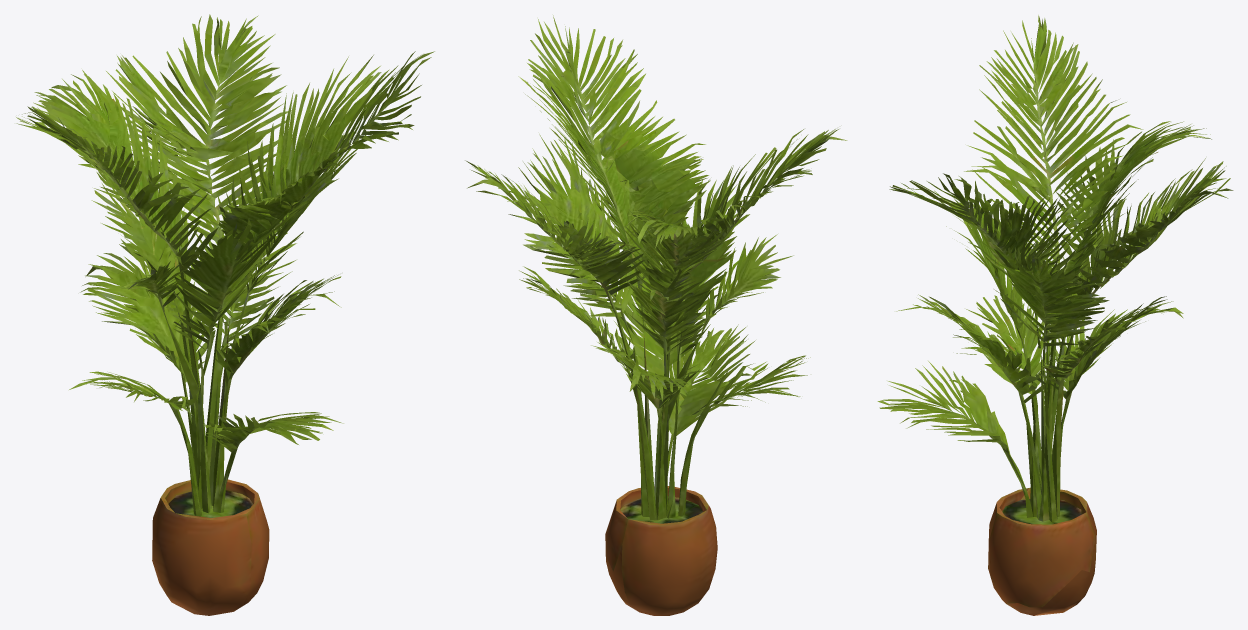
The model's file is potted-palm-v1.glb.
The picture shows the model from 3 angles, left to right: view 1: azimuth 30°, elevation 25°; view 2: azimuth 150°, elevation 25°; view 3: azimuth 270°, elevation 25°; orthographic projection. The views are drawn at different scales.
Size of the model in its own units: 1.37 by 1.9 by 1.21.
1 material, 1 textured.
